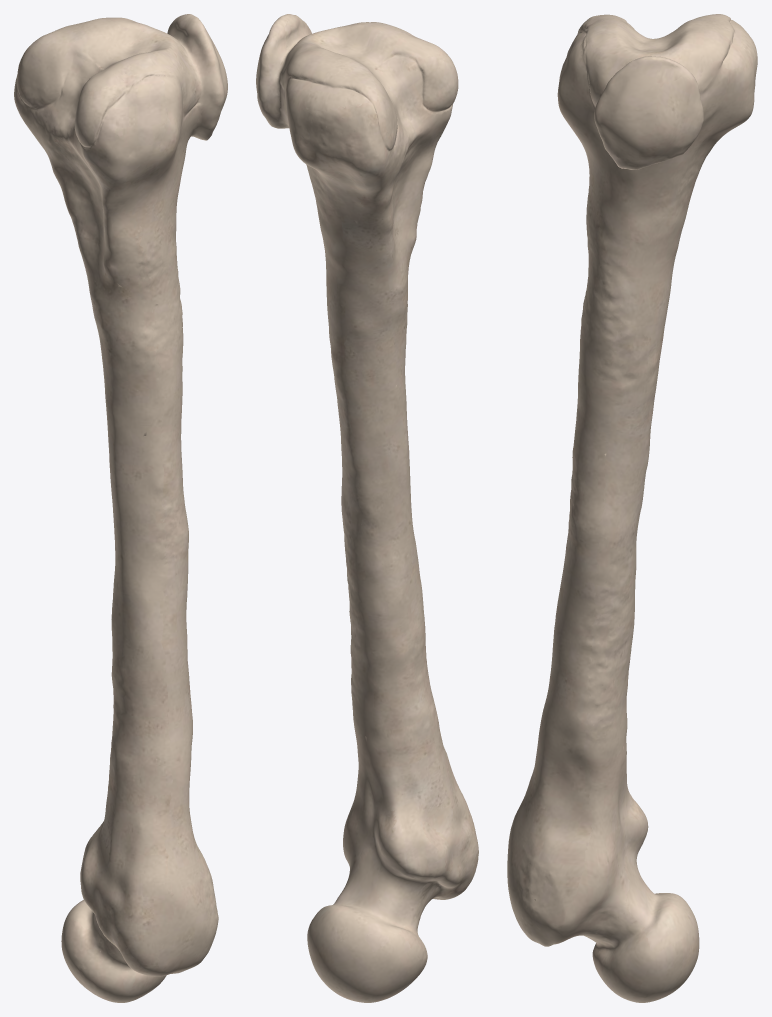
Rendered from bone_upper_leg_right.gltf.
The picture shows the model from 3 angles, left to right: view 1: azimuth 30°, elevation 25°; view 2: azimuth 150°, elevation 25°; view 3: azimuth 270°, elevation 25°; orthographic projection. The views are drawn at different scales.
Visible parts, largest first — view 1: Oberschenkelknochen_L003_160; view 2: Oberschenkelknochen_L003_160; view 3: Oberschenkelknochen_L003_160.
Part boxes in pixels (x1,y1,x2,y2): Oberschenkelknochen_L003_160: (14,14,227,1002); Oberschenkelknochen_L003_160: (256,14,478,1002); Oberschenkelknochen_L003_160: (507,14,757,1002).
Bounding box in the file's own units: 0.346 × 1.93 × 0.447.
Materials: 1 (1 with a texture image).
